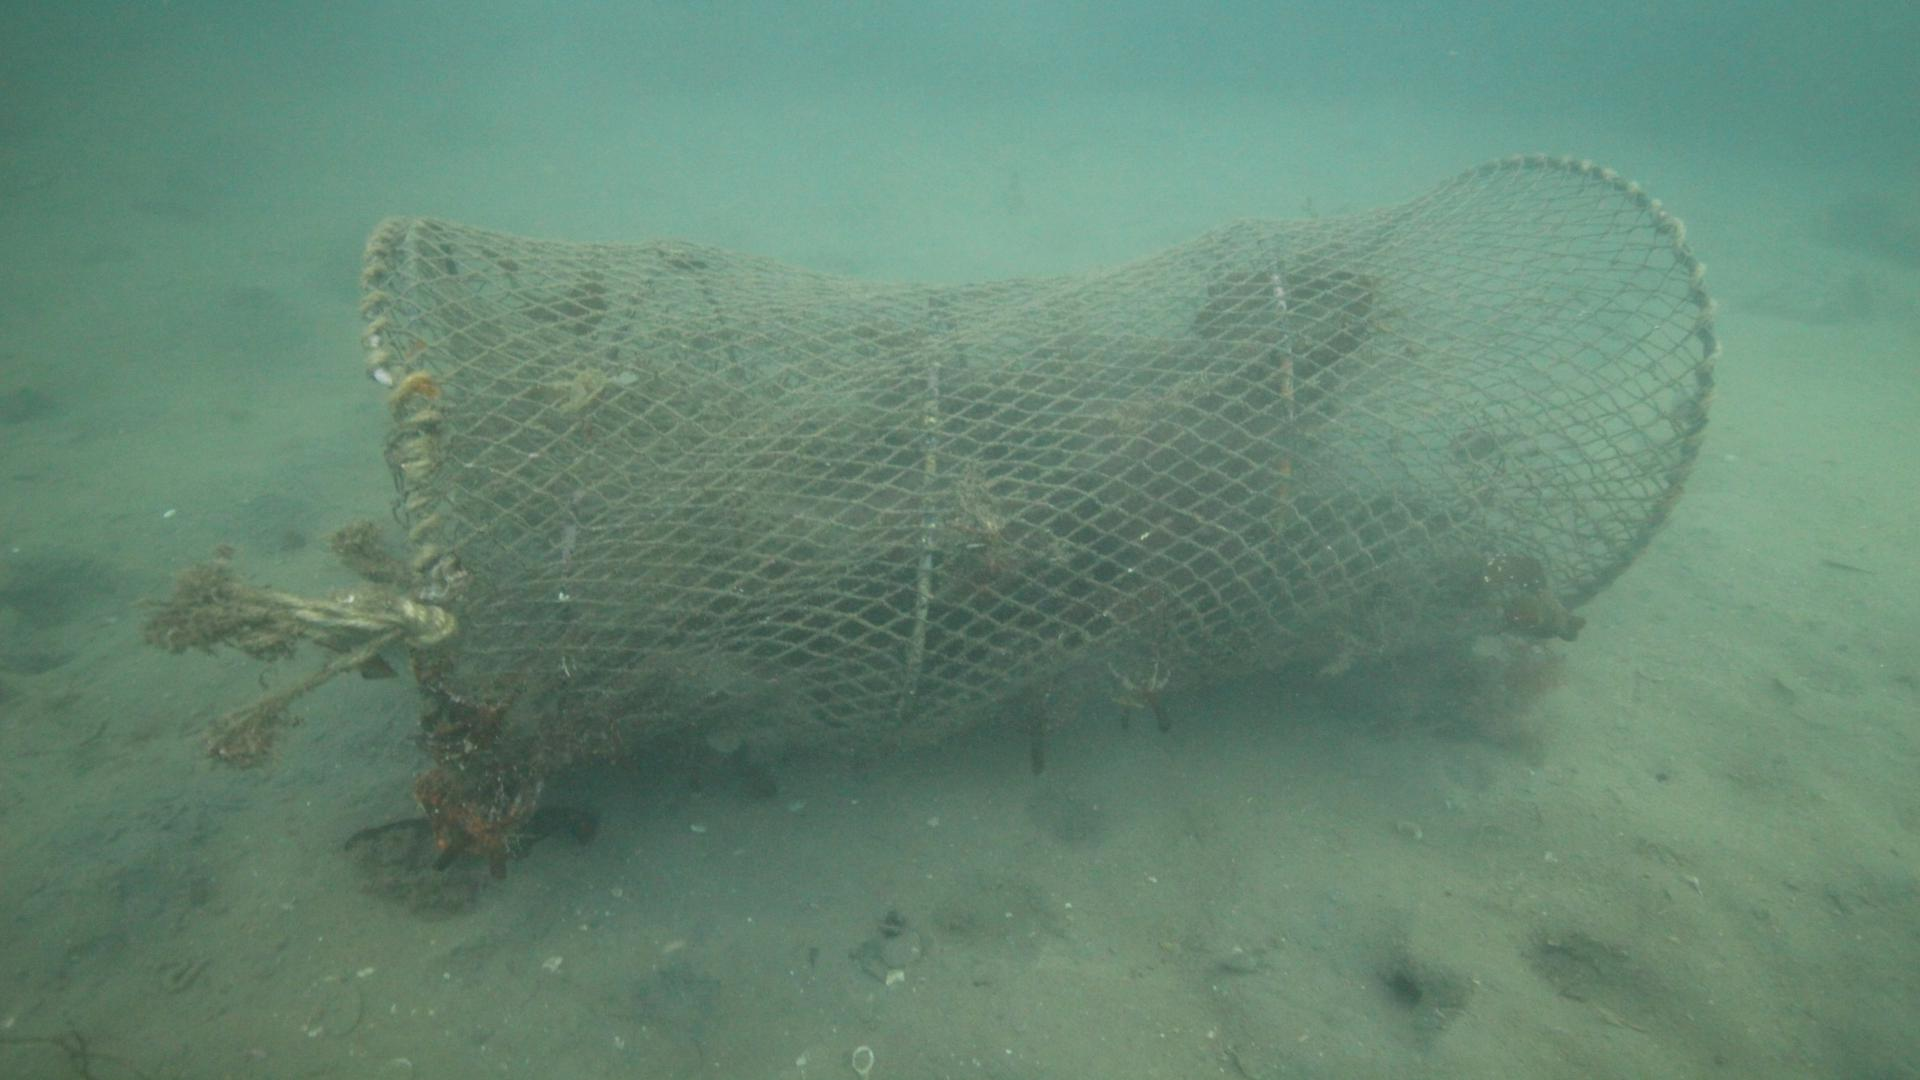spring fish trap: (355, 150, 1720, 876)
